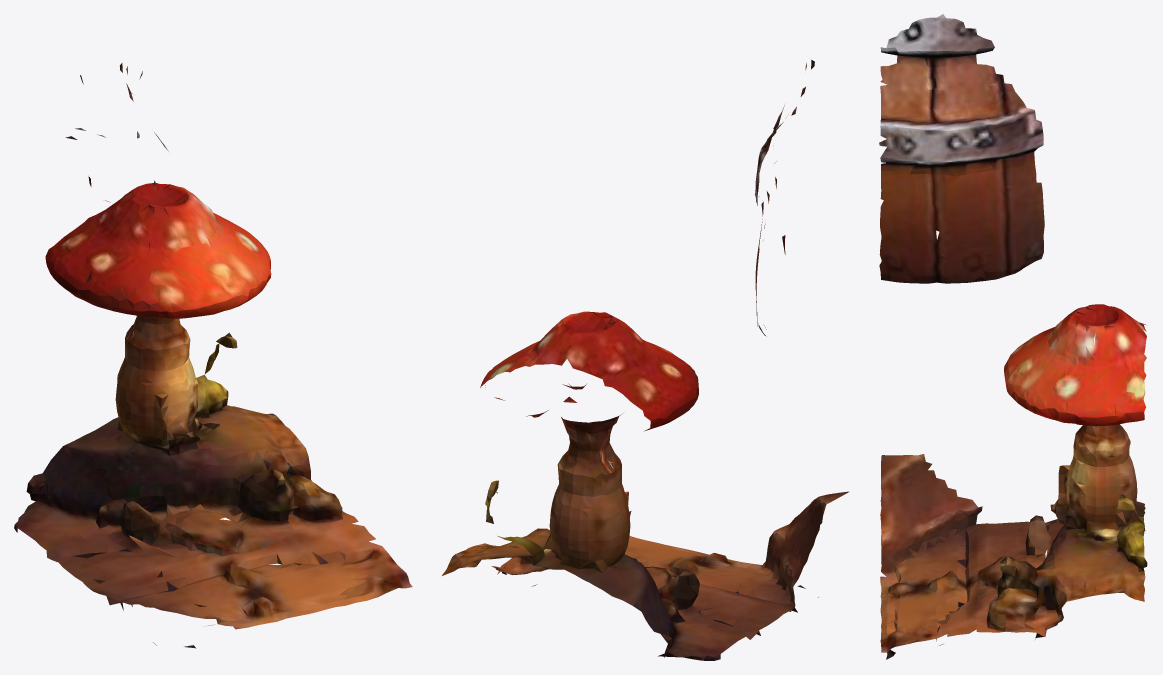
The model's file is cogumelo_cav.glb.
3 renders of one model, left to right at view 1: azimuth 30°, elevation 25°; view 2: azimuth 150°, elevation 25°; view 3: azimuth 270°, elevation 25°, orthographic. The views are drawn at different scales.
Visible parts, largest first — view 1: plush; view 2: plush; view 3: plush.
Part boxes in pixels (<box>): plush: <box>14,63,412,648</box>; plush: <box>442,60,849,660</box>; plush: <box>879,14,1147,659</box>.
Size of the model in its own units: 0.4424 by 0.9795 by 0.4437.
Materials: 1 (1 with a texture image).
